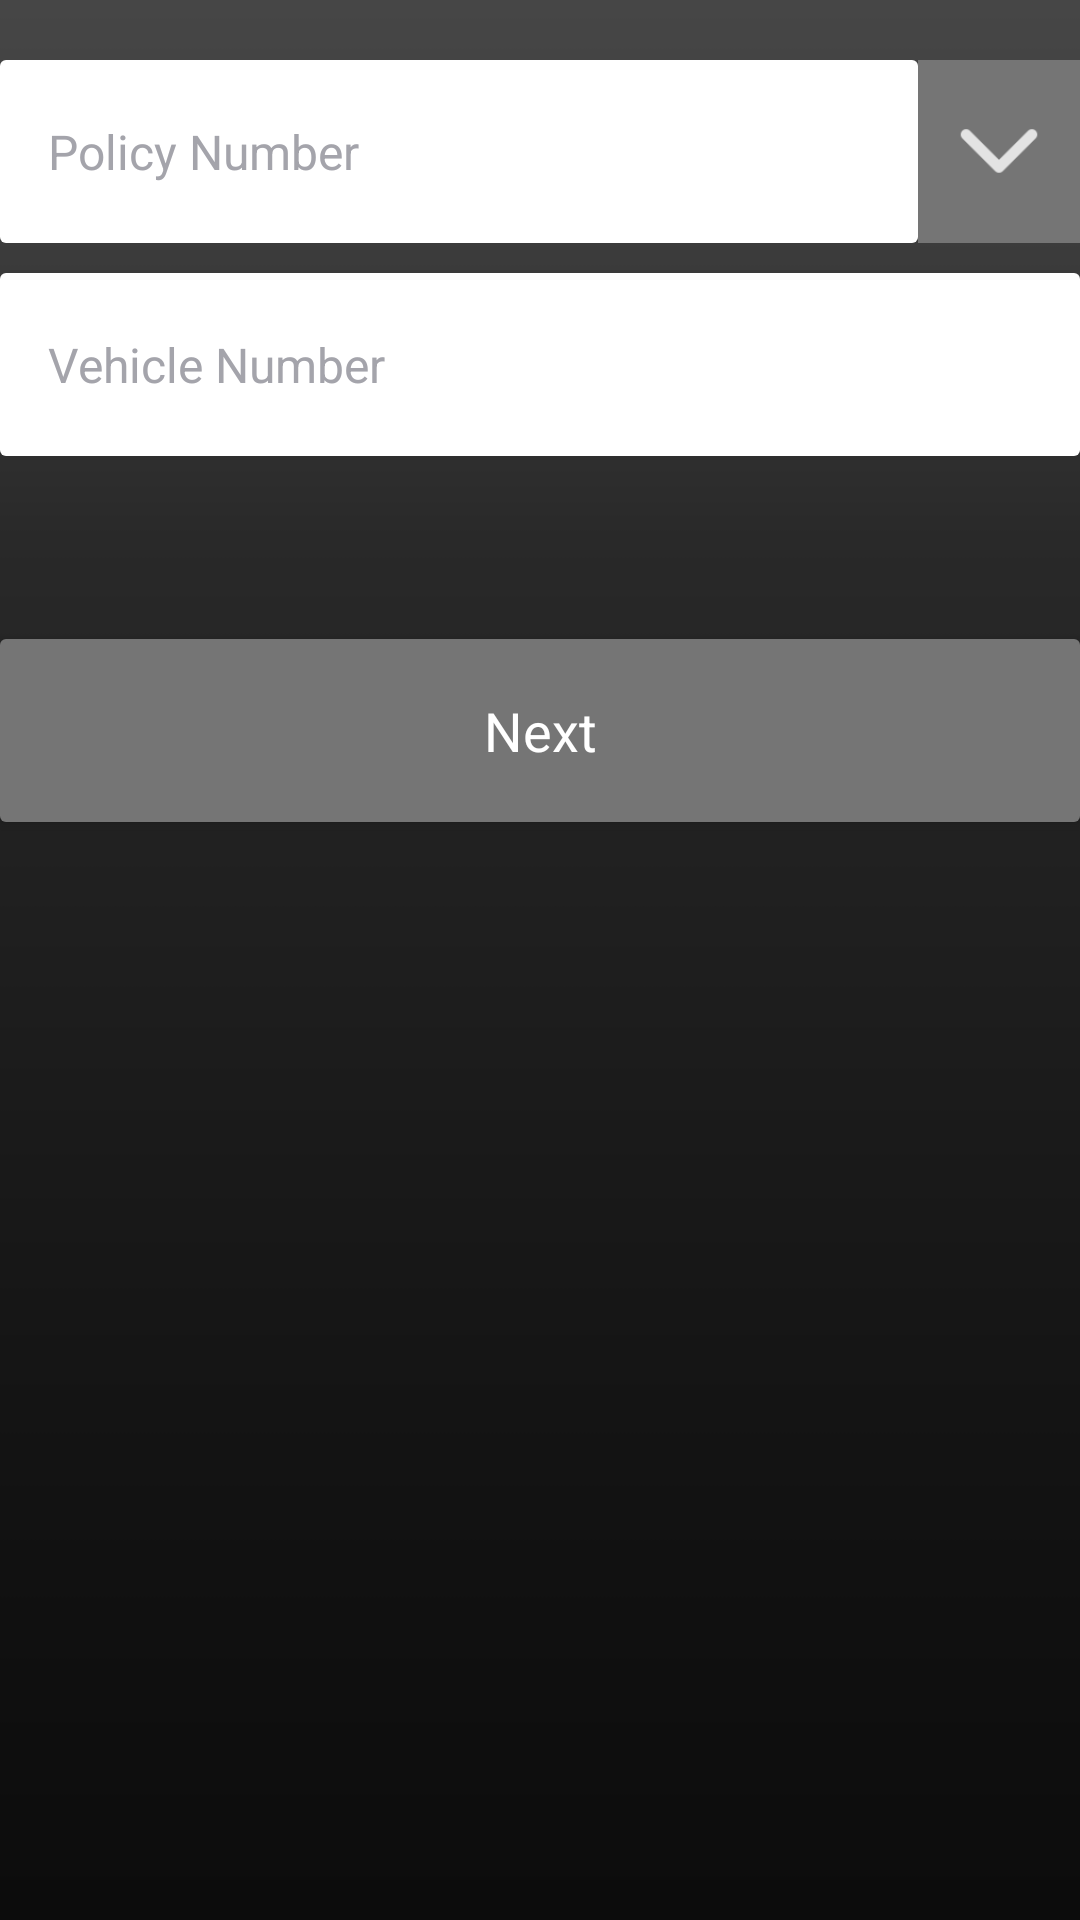

Icons on this 1080×1920 Android screen, each with the point to tap as (x,y):
down: (999,151)
